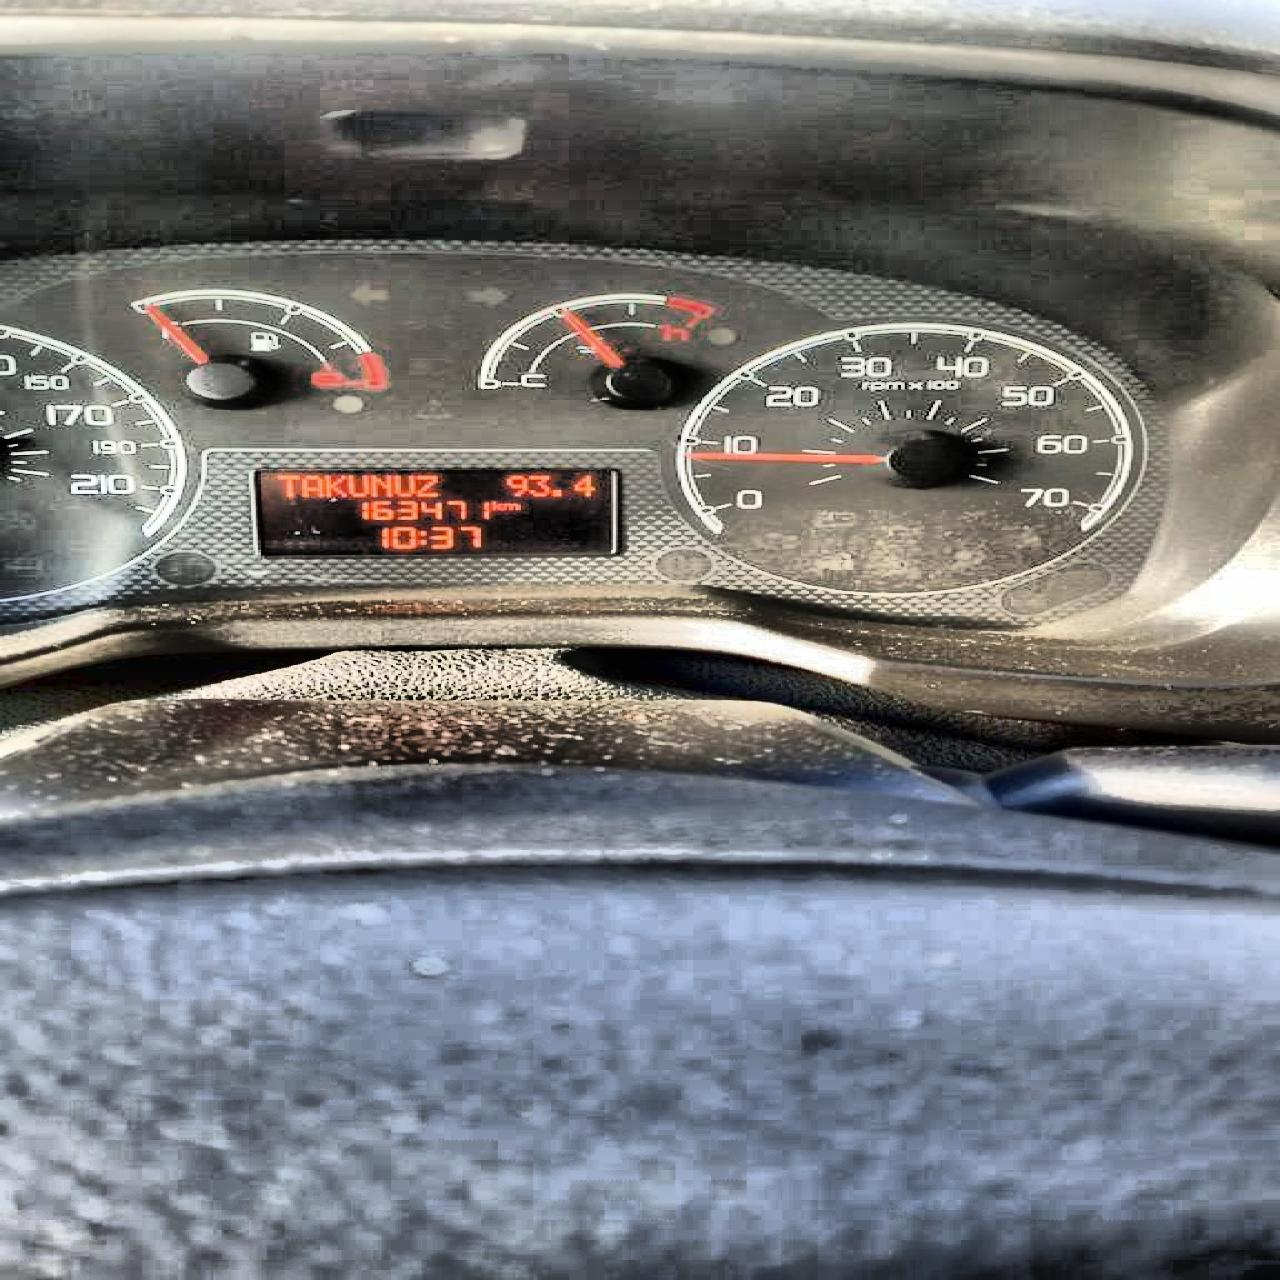-: (549, 488, 563, 497)
0: (389, 525, 415, 549)
1: (377, 525, 387, 549), (358, 501, 369, 519), (481, 499, 489, 520)
3: (427, 525, 454, 549), (526, 474, 551, 496), (393, 499, 417, 520)
4: (571, 472, 595, 498), (417, 501, 442, 520)
6: (369, 499, 393, 520)
7: (456, 525, 481, 546), (444, 499, 467, 519)
9: (504, 474, 526, 496)
X: (273, 472, 298, 497), (369, 472, 392, 497), (322, 472, 345, 497), (414, 474, 437, 496), (300, 474, 322, 496), (347, 472, 367, 497), (392, 474, 413, 496), (502, 501, 520, 510), (415, 529, 424, 546), (491, 499, 501, 510)
odometer: (243, 464, 627, 560)
